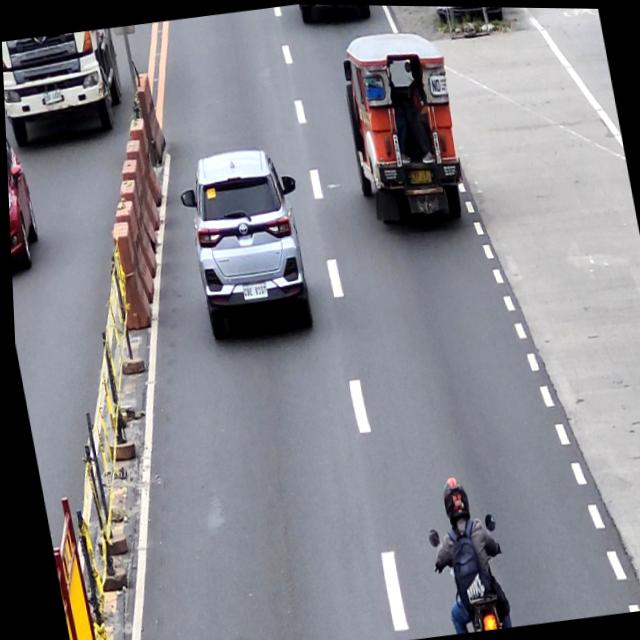Car: (172, 142, 320, 347)
Jeep: (334, 22, 472, 231)
License-Plate: (239, 281, 266, 299), (407, 167, 431, 185)
